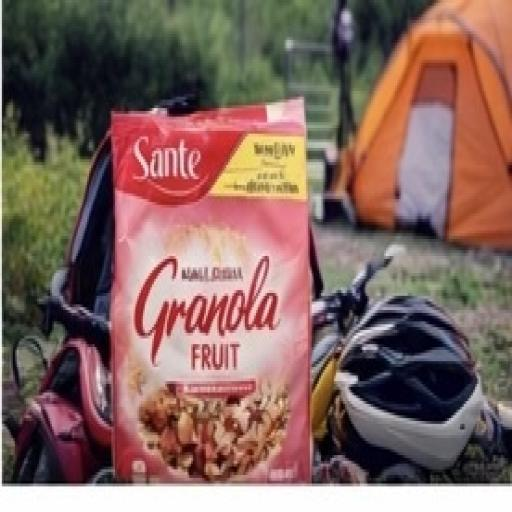granola: (103, 91, 319, 482)
